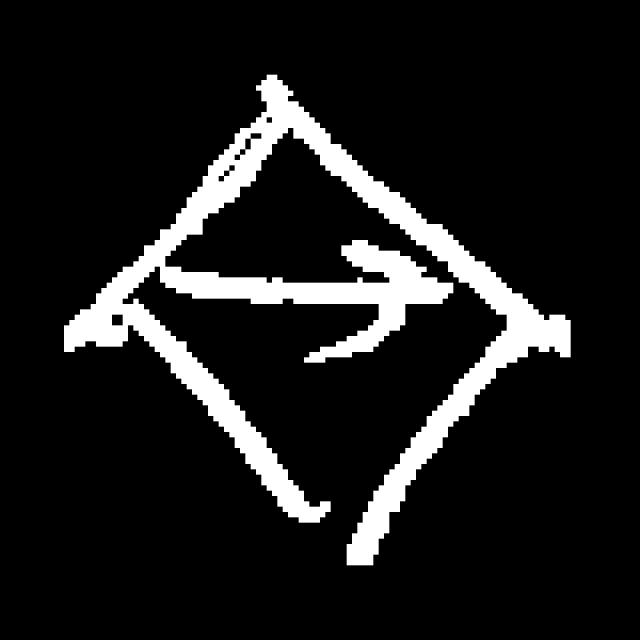dependant_current: (99, 82, 542, 574)
